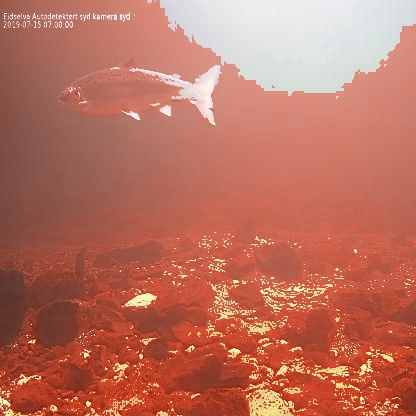salmon: (54, 55, 224, 128)
